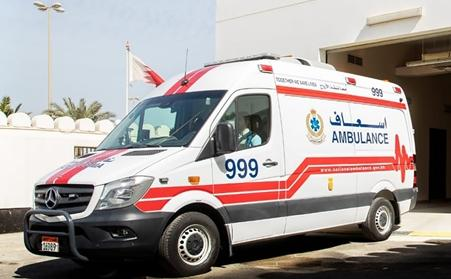ambulance_off: (23, 55, 420, 274)
